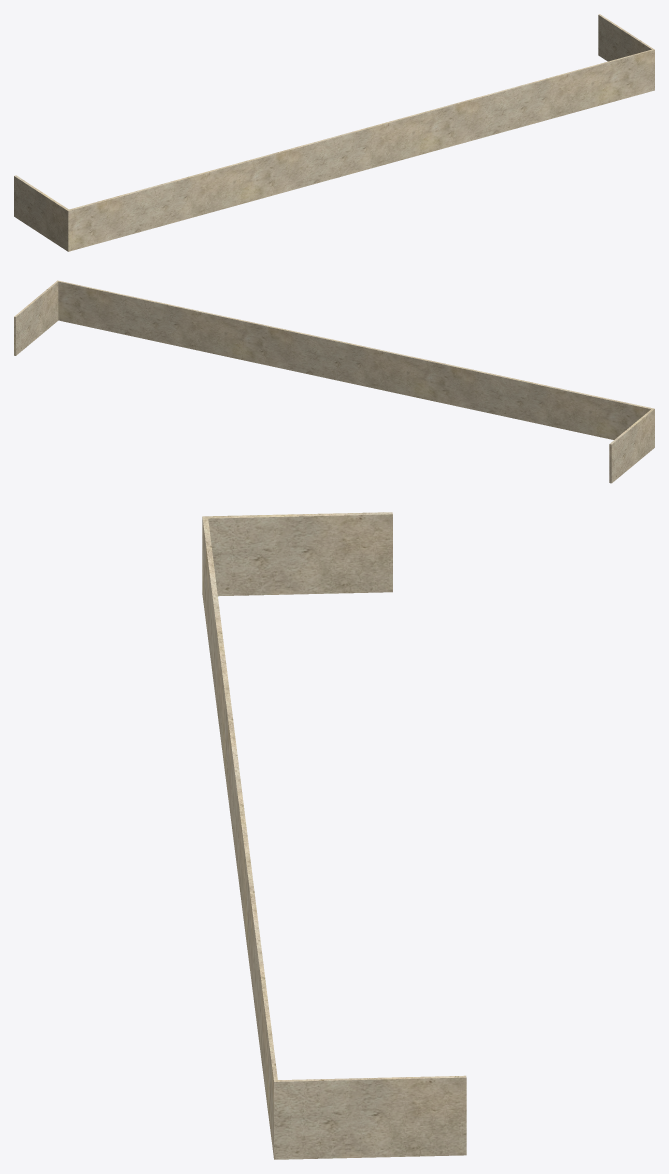
The model's file is concrete_37.fbx.
3 views of the same model, one above another, from view 1: azimuth 30°, elevation 25°; view 2: azimuth 150°, elevation 25°; view 3: azimuth 270°, elevation 25° (orthographic). The views are drawn at different scales.
Visible parts, largest first — view 1: concrete_37; view 2: concrete_37; view 3: concrete_37.
Boxes of the visible parts, x1,y1,x2,y2 form: concrete_37: (14, 14, 654, 251); concrete_37: (14, 280, 654, 483); concrete_37: (202, 512, 466, 1159).
Bounding box in the file's own units: 3295 × 210 × 646.
